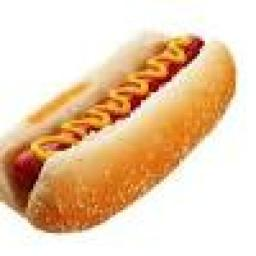hotdog: (1, 22, 242, 238)
